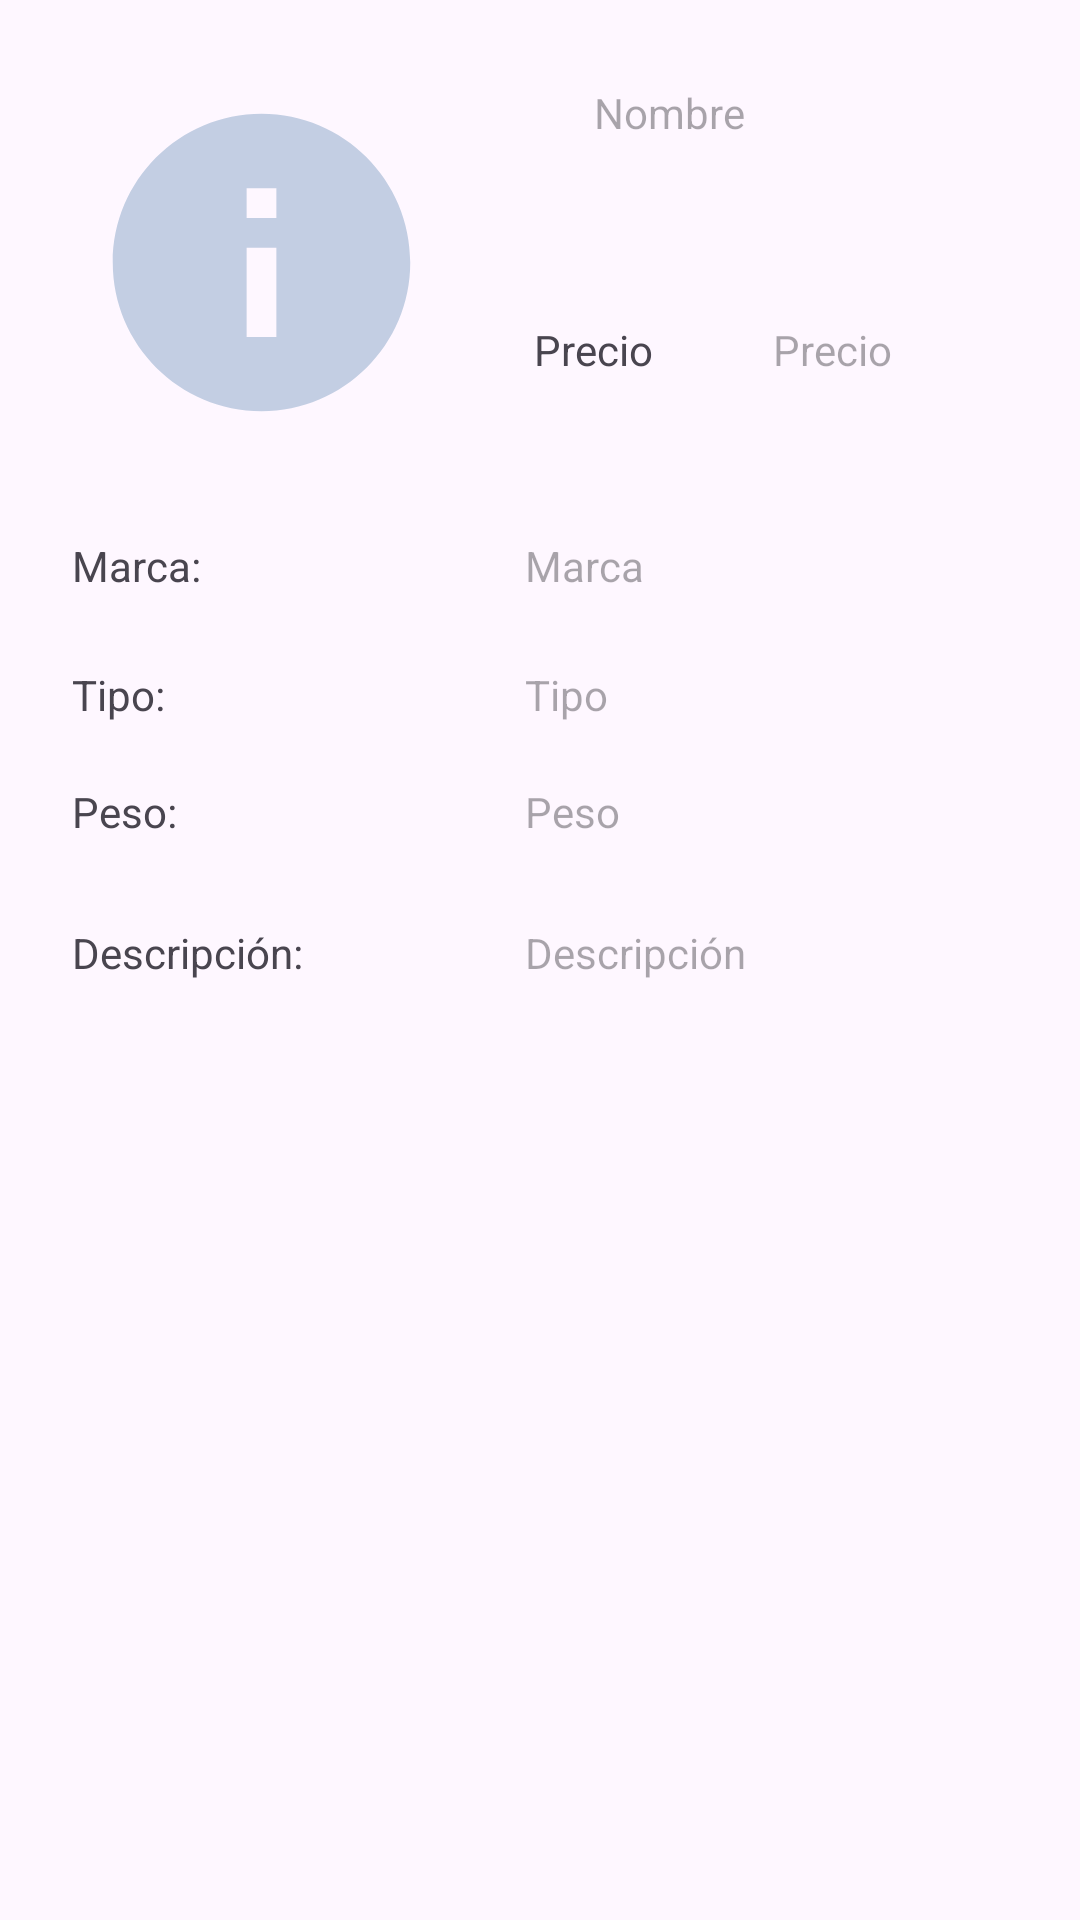

Where to tap for icons on this 1080*1920 app screen, as (x,y):
information: (261,262)
